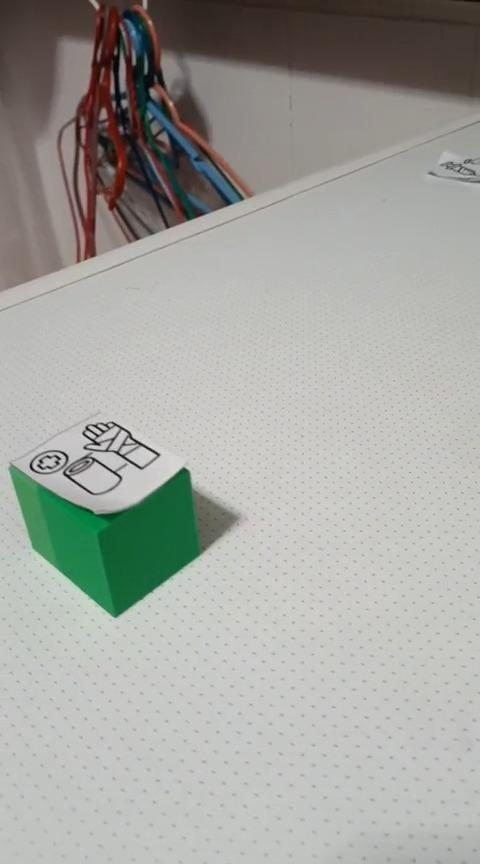Bandages: (7, 412, 201, 618)
